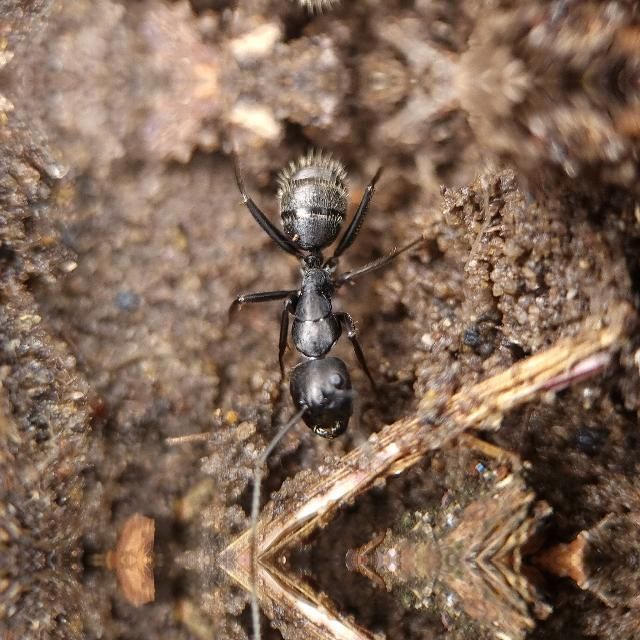Camponotus: (234, 115, 392, 461)
